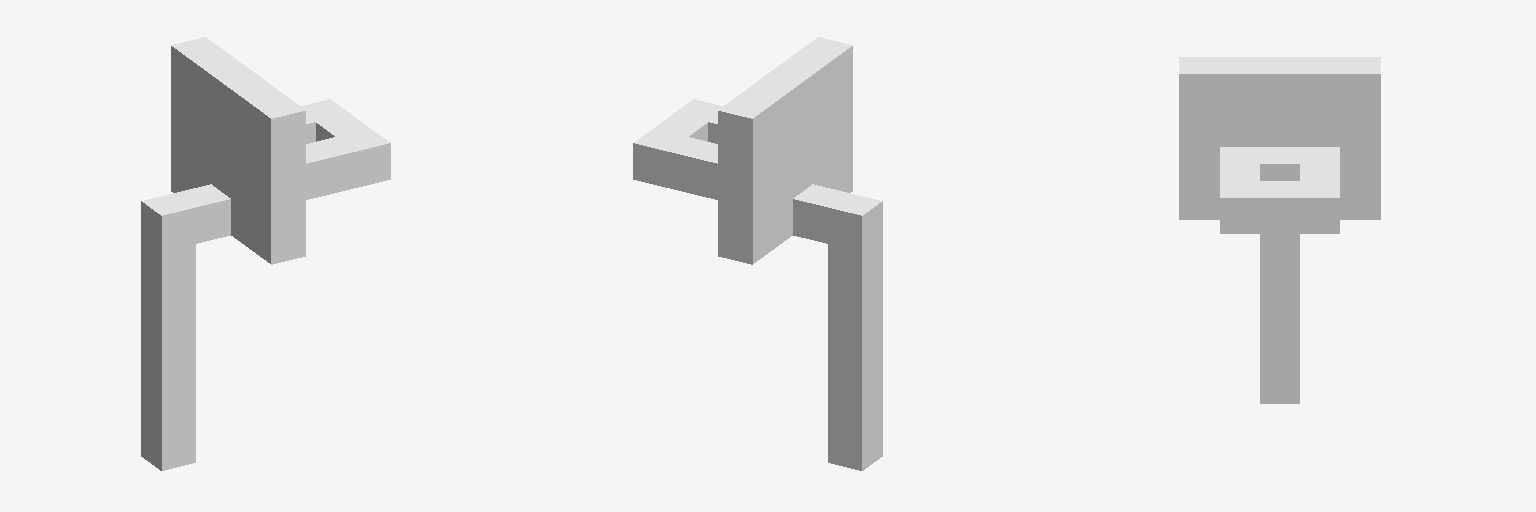
Rendered from Basketball.obj.
3 views of the same model, side by side, from view 1: azimuth 30°, elevation 25°; view 2: azimuth 150°, elevation 25°; view 3: azimuth 270°, elevation 25° (orthographic).
Bounding box in the file's own units: 6 × 10 × 5.